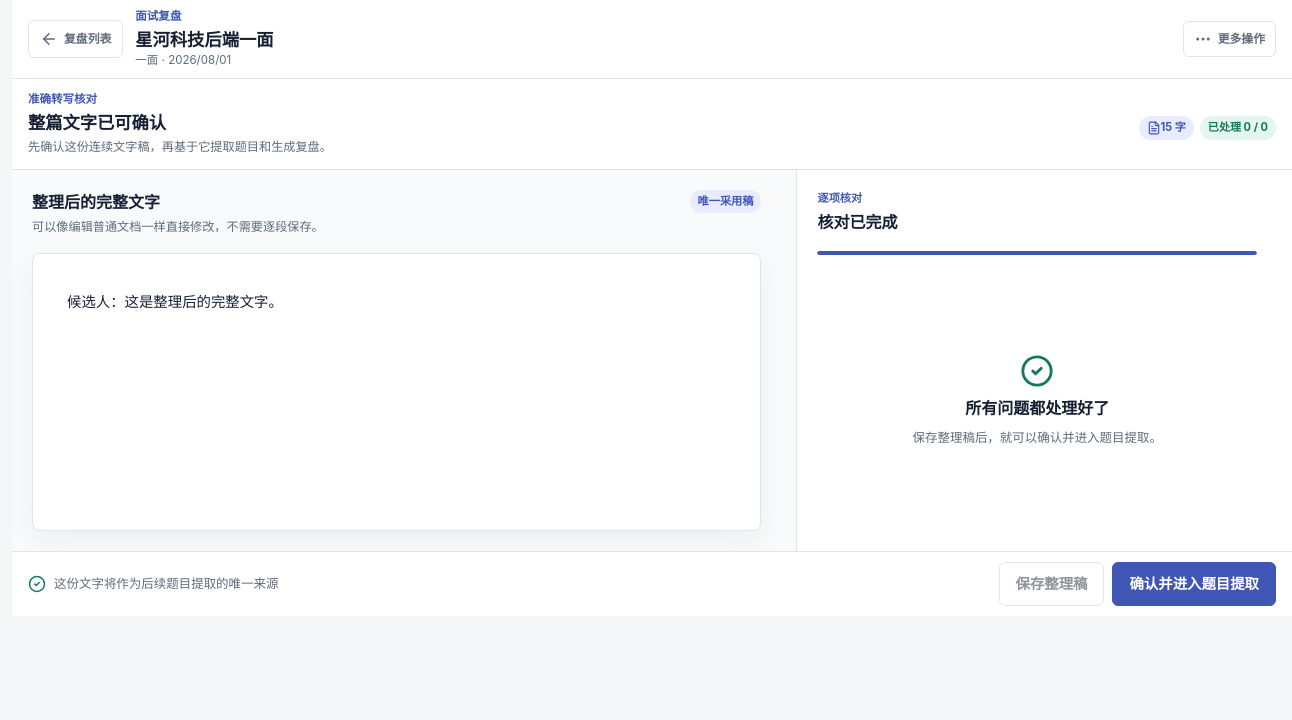
Test: InterviewRetrospectivePage › enters a focused two-pane layout while reviewing the clean transcript
The image size is (1292, 720).
Expected: the text box named "整理后的完整文字" is shown, [32, 253, 762, 531]
Expected: the number of headings "星河科技后端一面" is 1, [135, 29, 273, 50]
Click the button "复盘列表" at [76, 39], box [28, 20, 123, 58]
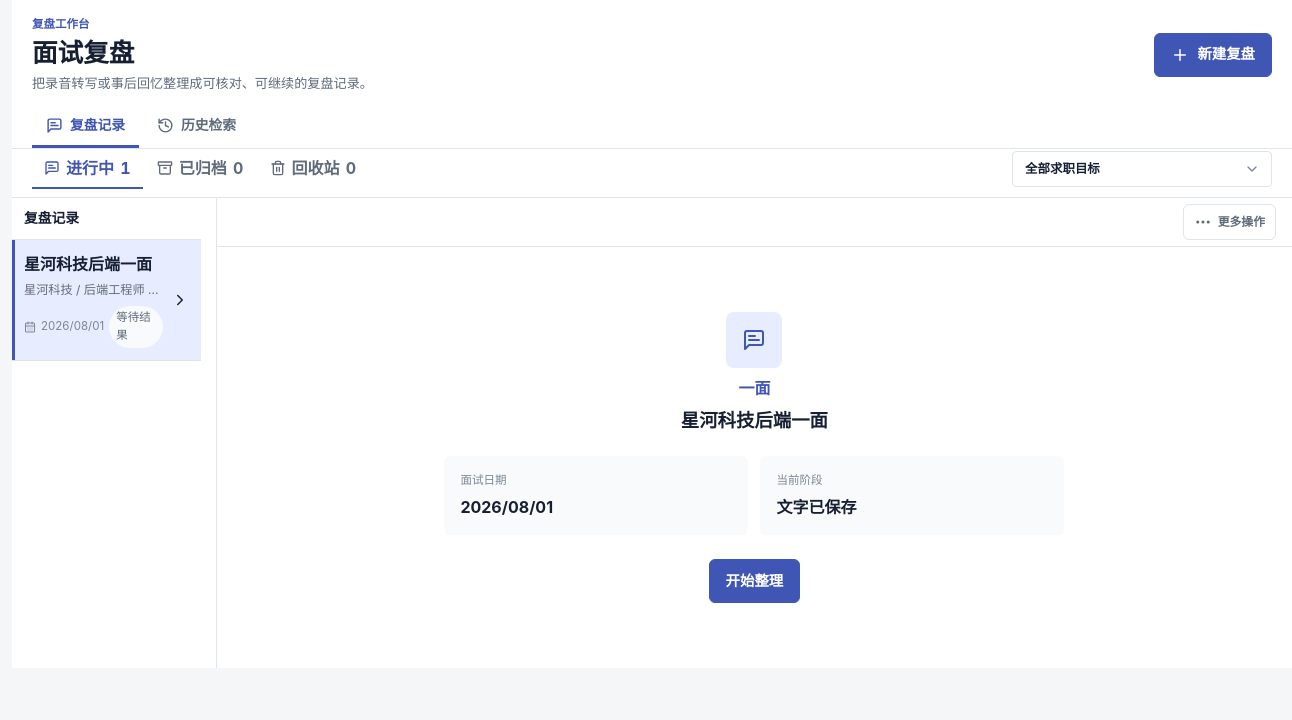
Expected: the element named "面试复盘记录" is shown, [12, 198, 217, 668]
